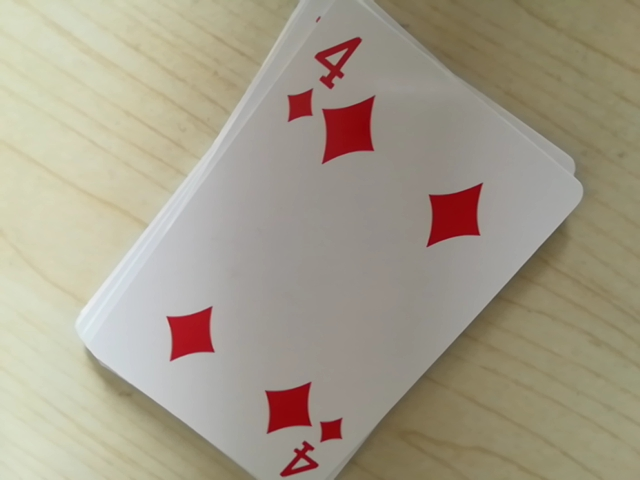fk 4: (288, 25, 372, 121), (265, 419, 350, 480)
